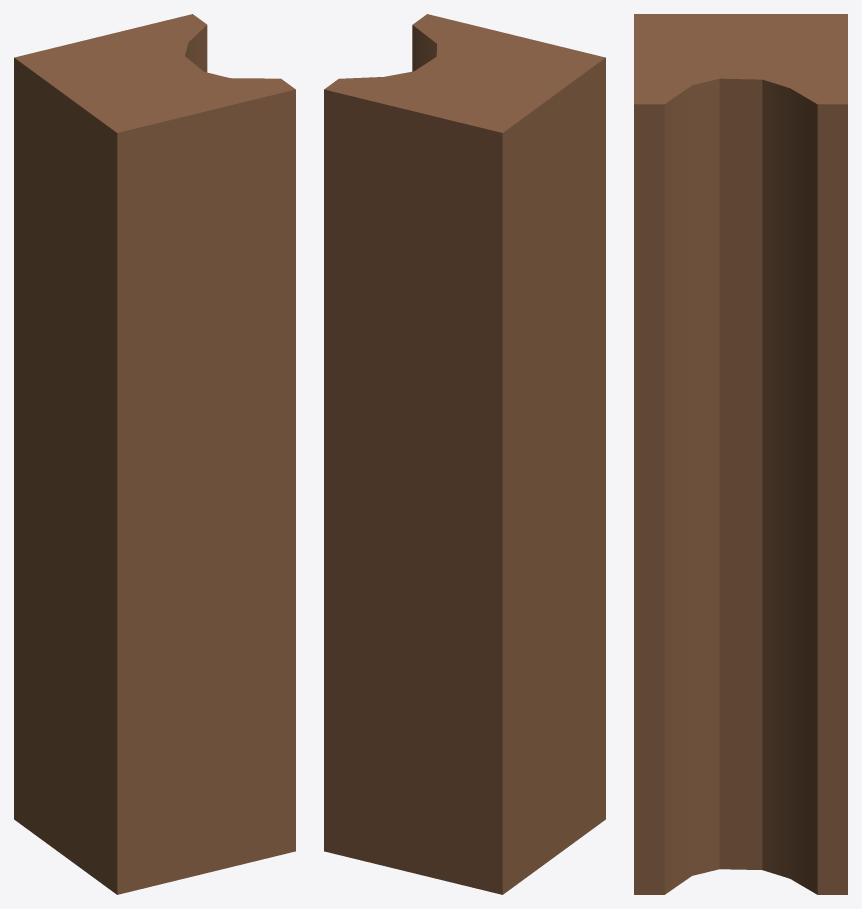
File: balka.fbx
3 views of the same model, side by side, from view 1: azimuth 30°, elevation 25°; view 2: azimuth 150°, elevation 25°; view 3: azimuth 270°, elevation 25° (orthographic). The views are drawn at different scales.
Visible parts, largest first — view 1: Cube; view 2: Cube; view 3: Cube.
Boxes of the visible parts, x1,y1,x2,y2 form: Cube: [14, 14, 295, 894]; Cube: [324, 14, 605, 894]; Cube: [634, 14, 847, 894].
Bounding box in the file's own units: 200 × 815 × 200.
